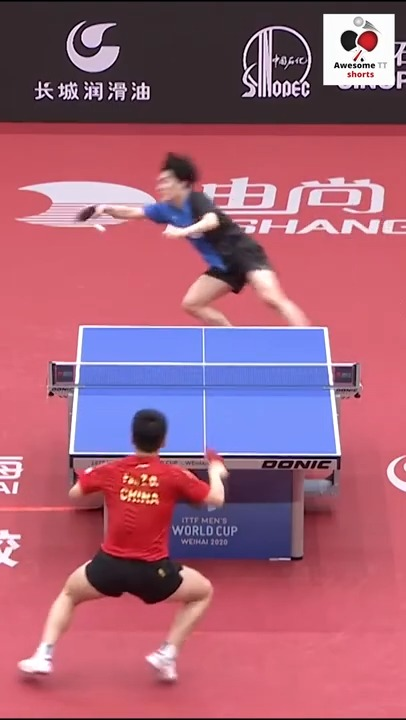Ball: (94, 221, 108, 233)
